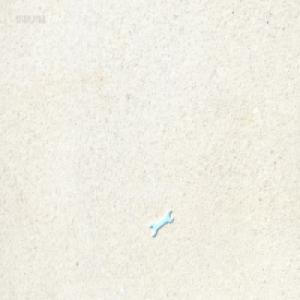Wrench: (151, 209, 175, 237)
